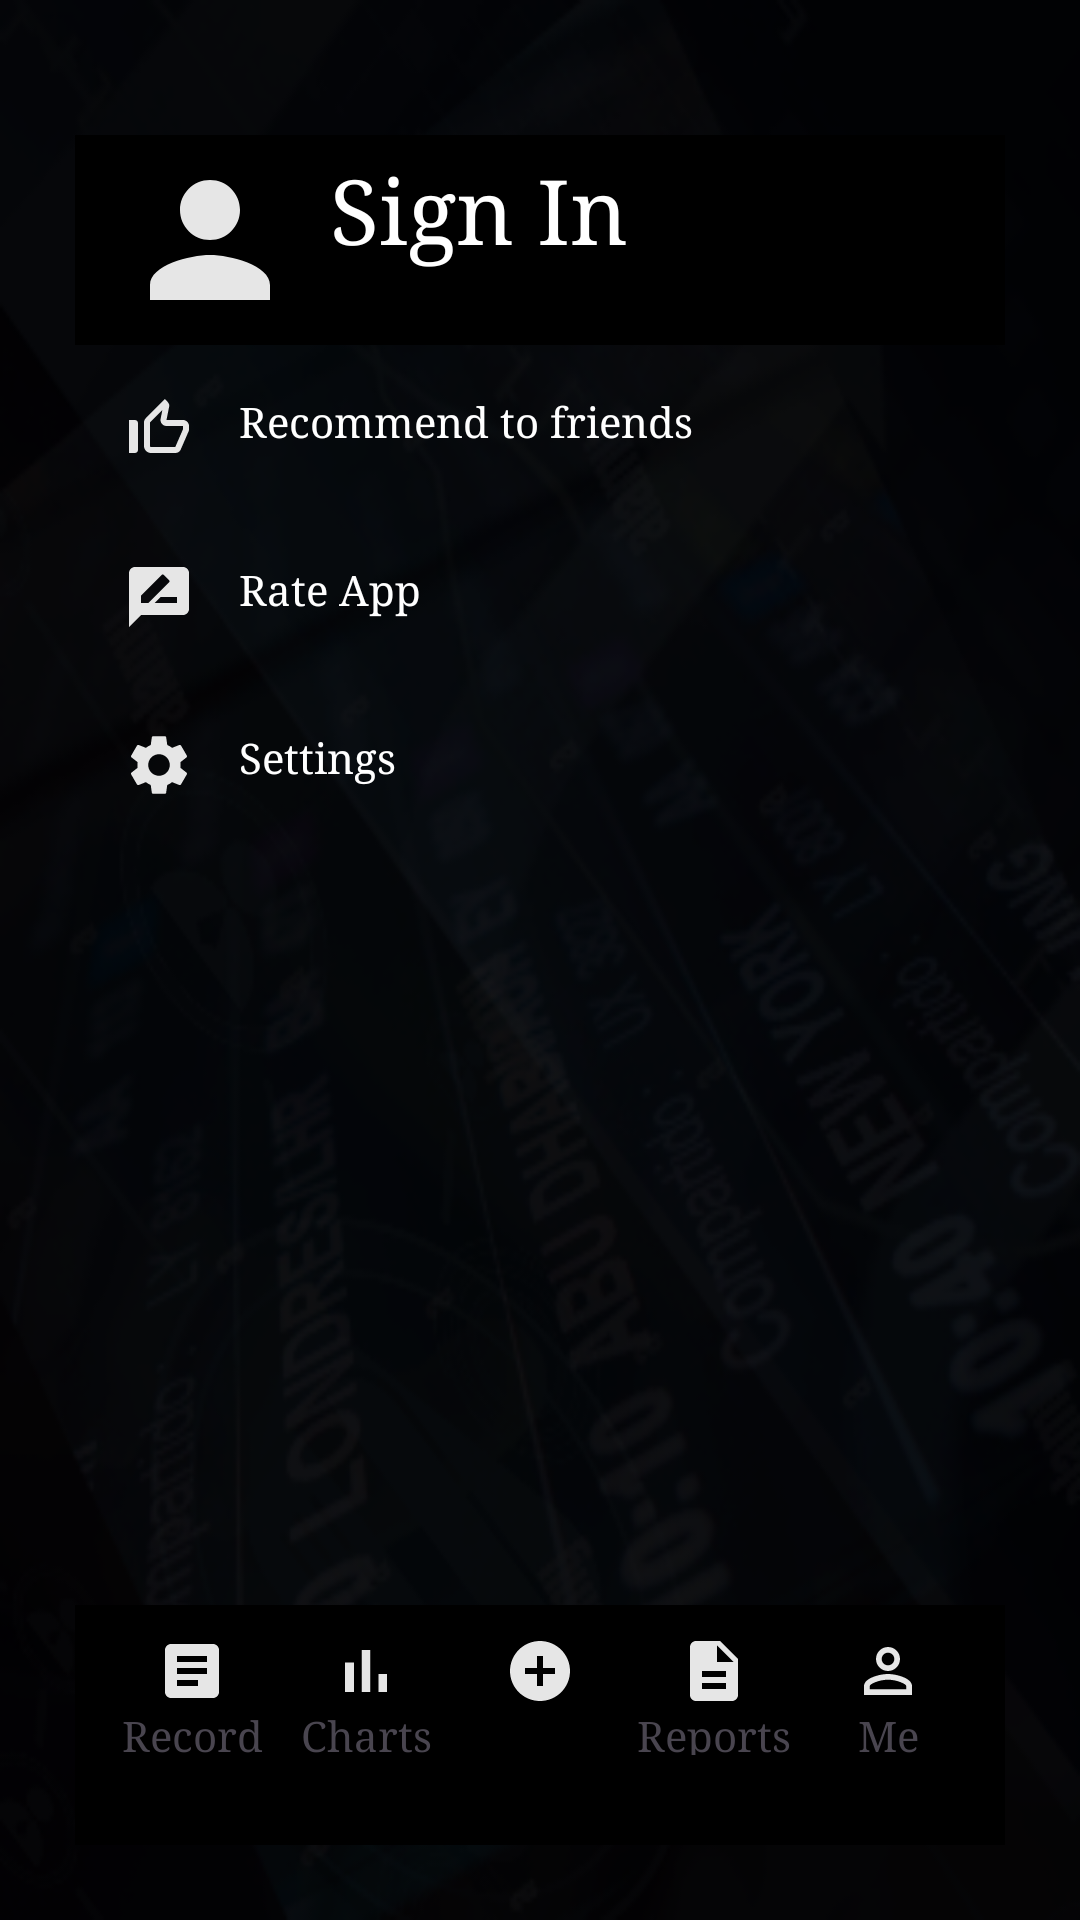

Locate icon controls on the screen. Image size 1080px×1920px, boxes as bbox(x1, y1, x2, y2).
person bd: bbox(150, 180, 270, 300)
